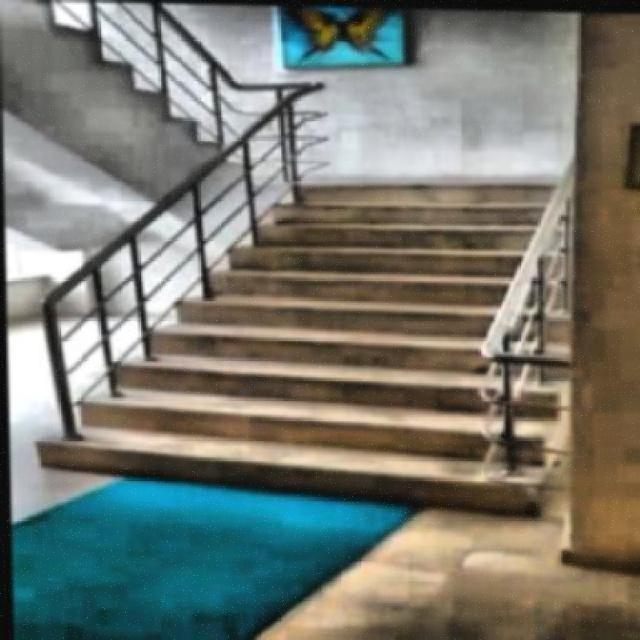stair: (6, 141, 572, 517)
